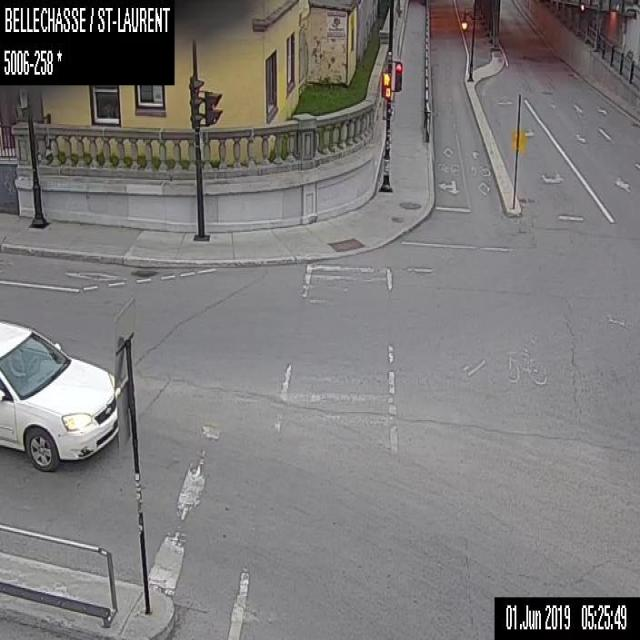vehicle: (0, 316, 117, 472)
